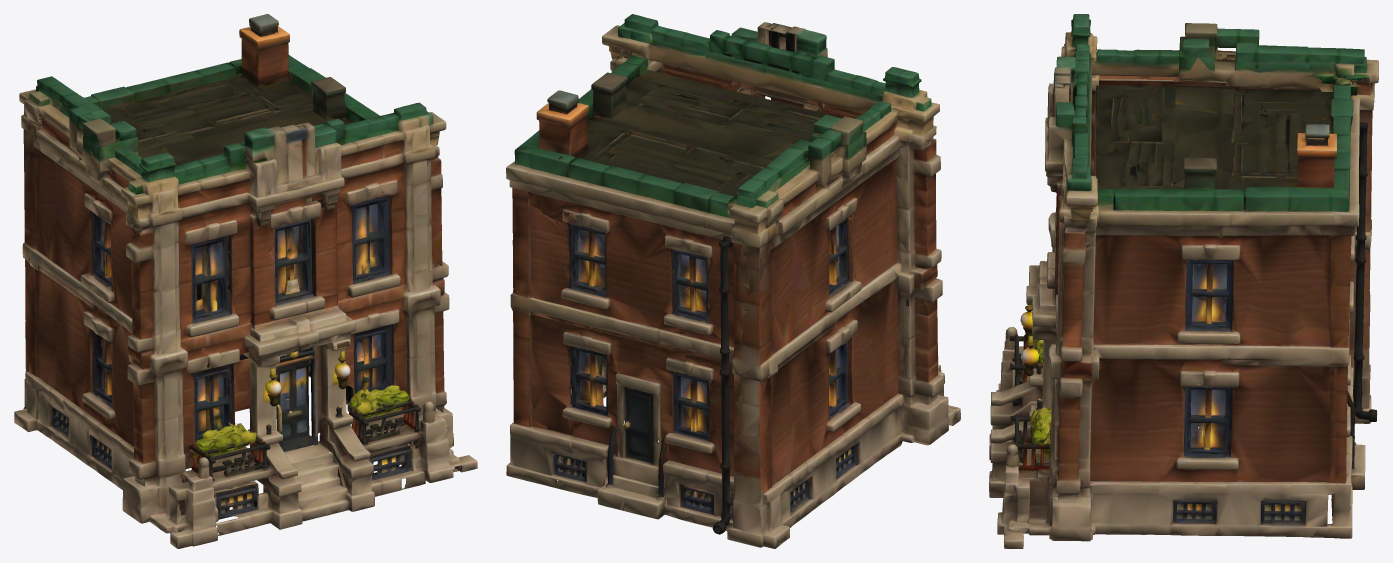
The model's file is expansion_house.glb.
The picture shows the model from 3 angles, left to right: view 1: azimuth 30°, elevation 25°; view 2: azimuth 150°, elevation 25°; view 3: azimuth 270°, elevation 25°; orthographic projection. The views are drawn at different scales.
Parts seen in each view (by area): view 1: expansion_house_ai_structure; view 2: expansion_house_ai_structure; view 3: expansion_house_ai_structure.
Part boxes in pixels (x1=…): expansion_house_ai_structure: x1=14, y1=14, x2=477, y2=548; expansion_house_ai_structure: x1=506, y1=14, x2=960, y2=548; expansion_house_ai_structure: x1=989, y1=14, x2=1378, y2=548.
Size of the model in its own units: 2.69 by 3 by 2.68.
1 material, 1 textured.
